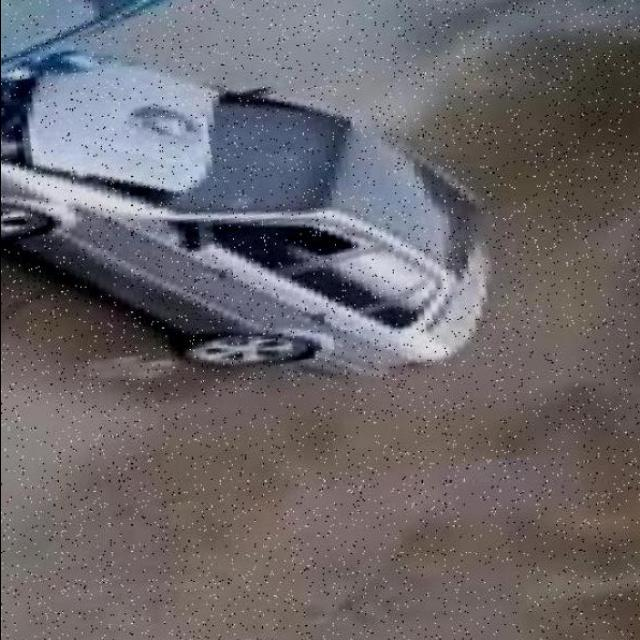accident: (0, 0, 532, 430)
